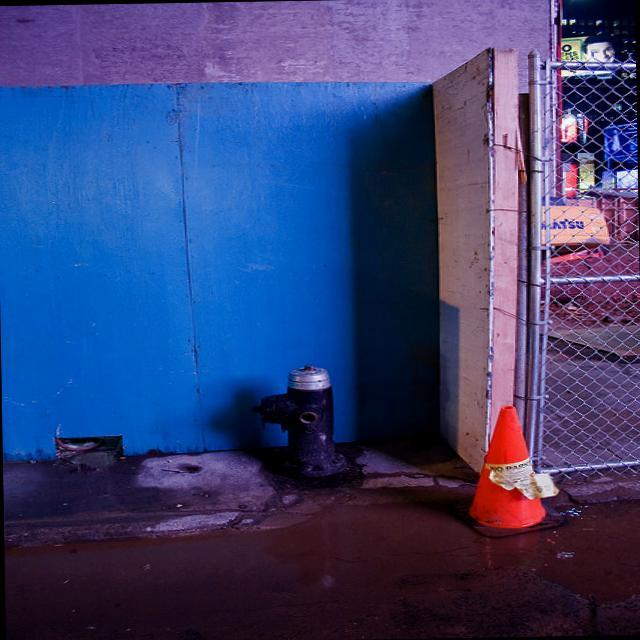fire_hydrant: (253, 364, 351, 480)
